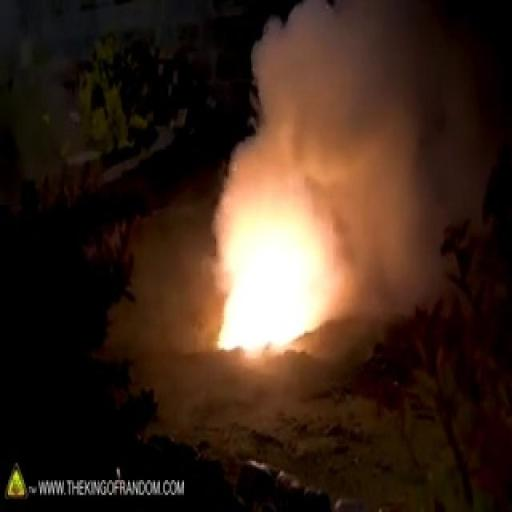smoke: (218, 186, 321, 348)
